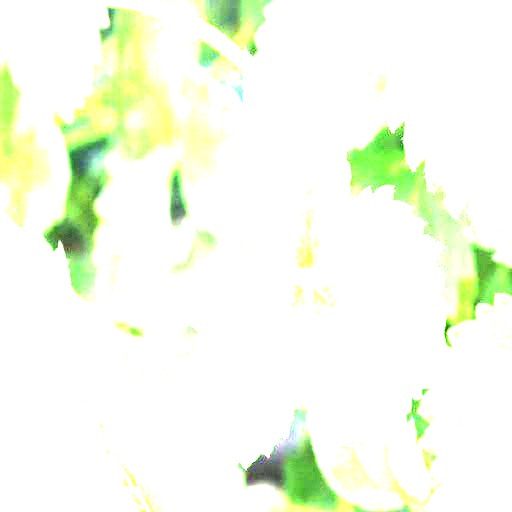Powdery Mildew Leaf: (0, 215, 229, 511), (302, 185, 452, 447), (219, 48, 352, 271), (187, 235, 311, 471)
